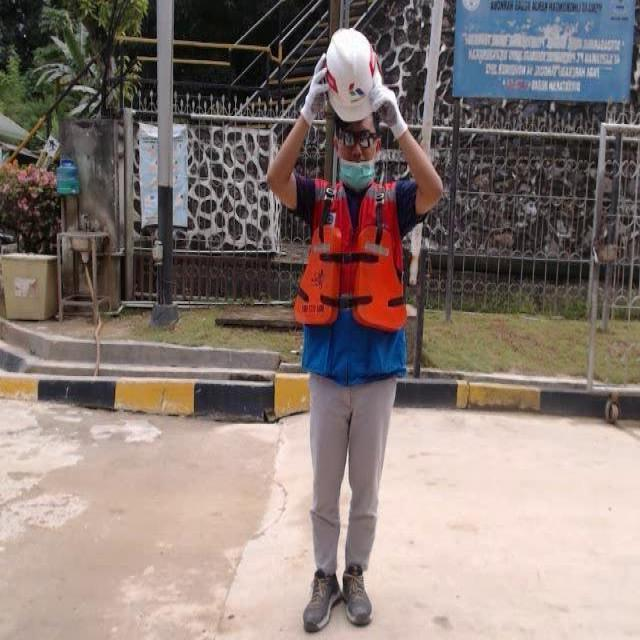helmet: (324, 28, 380, 120)
safety_vest: (297, 178, 410, 373)
